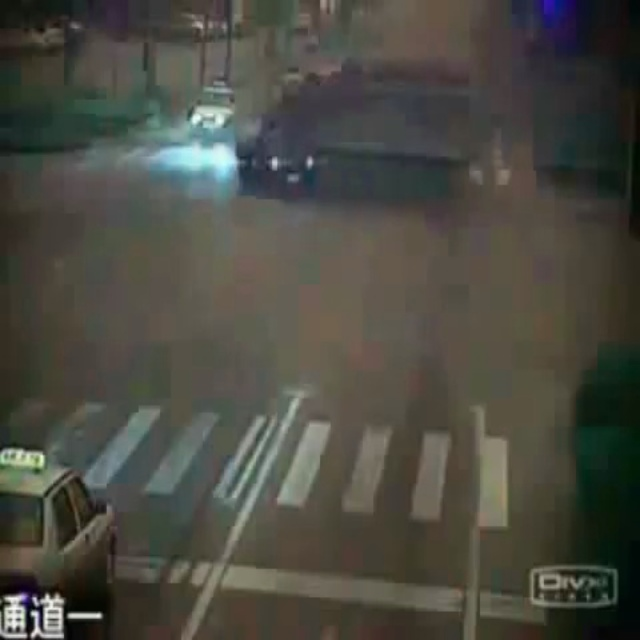acc: (216, 87, 329, 206)
